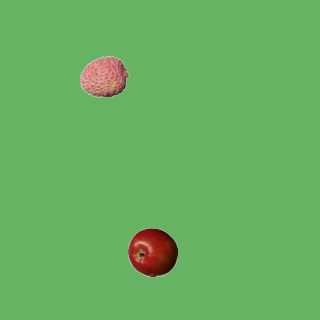Apple Braeburn: (127, 227, 177, 277)
Lychee: (79, 51, 129, 101)
